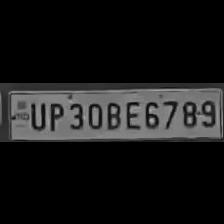0: (84, 99, 104, 129)
3: (66, 98, 84, 130)
6: (141, 97, 159, 129)
7: (160, 97, 178, 129)
8: (178, 96, 198, 128)
9: (197, 96, 217, 128)
B: (103, 98, 121, 130)
E: (123, 98, 141, 130)
P: (46, 98, 64, 132)
U: (27, 98, 45, 130)
